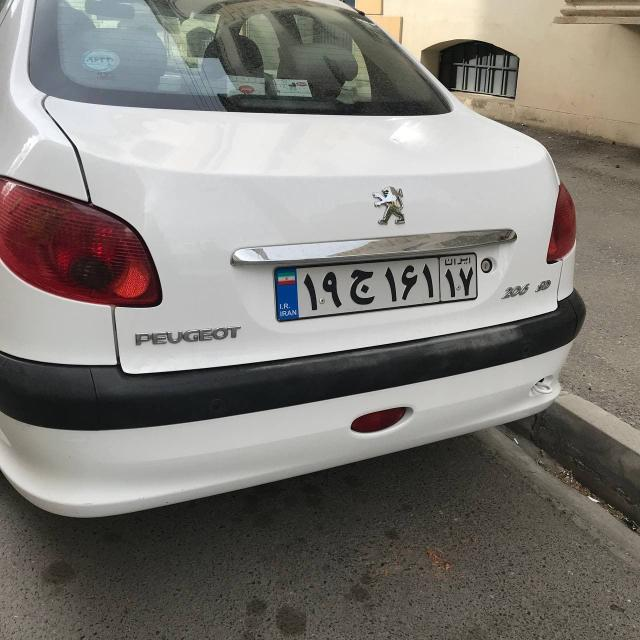Plates: (271, 245, 481, 321)
